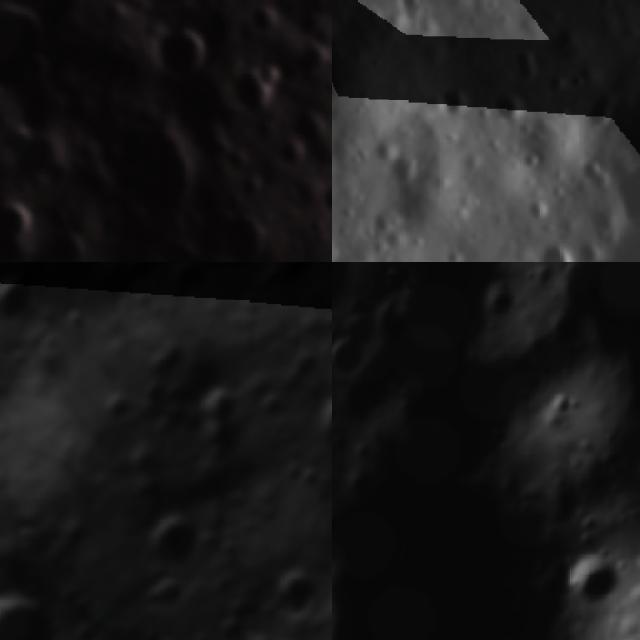crater: (553, 48, 640, 262), (105, 114, 197, 216), (128, 496, 222, 588), (252, 548, 332, 639), (552, 543, 627, 624), (0, 568, 82, 640), (0, 339, 38, 462), (0, 262, 54, 339), (467, 269, 526, 331), (162, 262, 230, 312), (332, 492, 364, 592), (520, 216, 587, 262), (482, 74, 540, 126), (151, 25, 208, 73), (234, 69, 282, 126), (91, 382, 142, 435), (332, 328, 376, 389), (303, 377, 332, 462), (109, 262, 180, 294), (229, 222, 278, 262), (332, 262, 362, 324), (0, 203, 42, 236), (386, 0, 430, 25), (15, 262, 70, 280), (322, 178, 332, 207)
